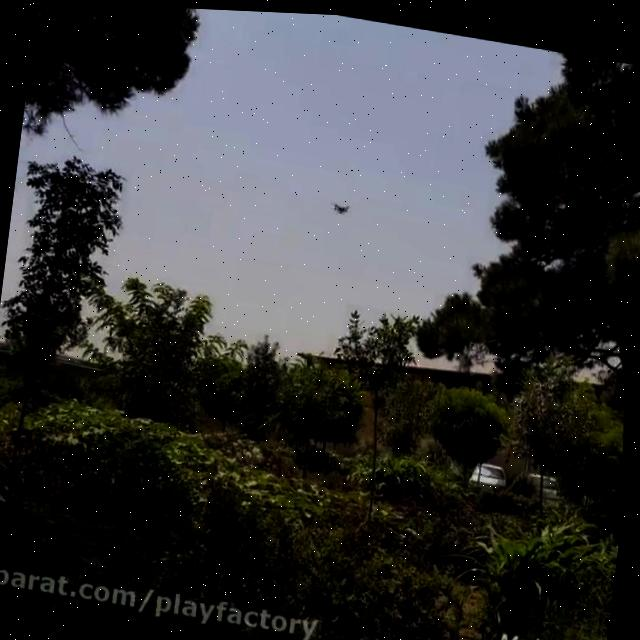drone: (326, 191, 356, 216)
